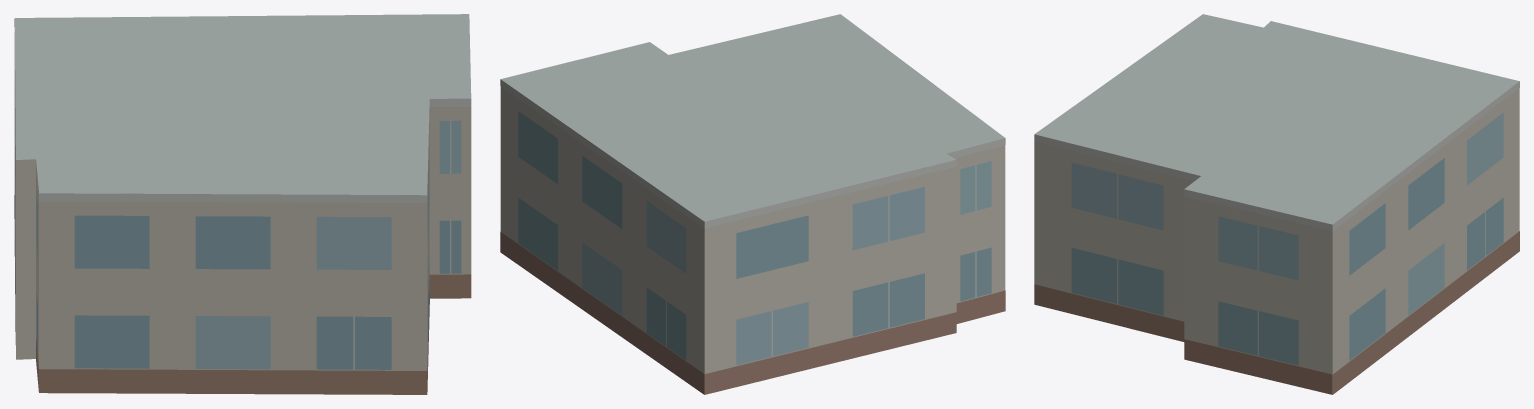
Rendered from survey-upis-32891075.glb.
3 views of the same model, side by side, from view 1: azimuth 30°, elevation 25°; view 2: azimuth 150°, elevation 25°; view 3: azimuth 270°, elevation 25° (orthographic). The views are drawn at different scales.
Parts seen in each view (by area): view 1: survey-upis-32891075.tmp; view 2: survey-upis-32891075.tmp; view 3: survey-upis-32891075.tmp.
Boxes of the visible parts, x1=… form: survey-upis-32891075.tmp: x1=14, y1=14, x2=471, y2=394; survey-upis-32891075.tmp: x1=500, y1=14, x2=1005, y2=394; survey-upis-32891075.tmp: x1=1034, y1=14, x2=1519, y2=394.
Bounding box in the file's own units: 16.2 × 6.1 × 15.77.
